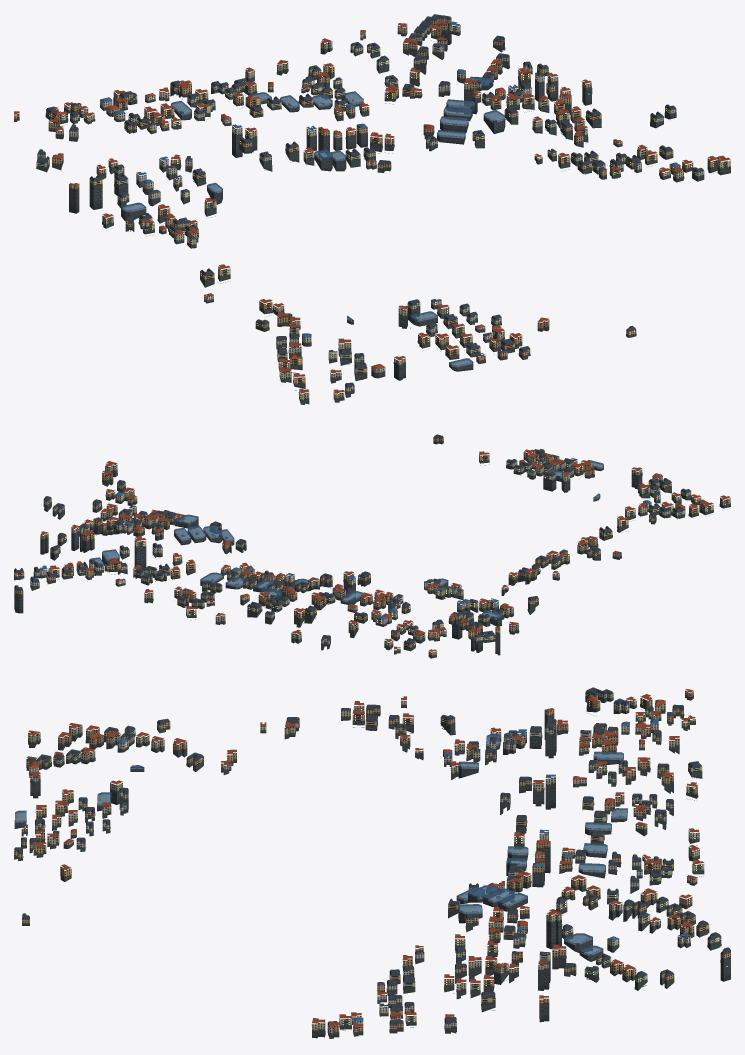
Rendered from osm_buildings_T_W01_S02_Q1.glb.
3 views of the same model, one above another, from view 1: azimuth 30°, elevation 25°; view 2: azimuth 150°, elevation 25°; view 3: azimuth 270°, elevation 25° (orthographic). The views are drawn at different scales.
Visible parts, largest first — view 1: OSM_T_W01_S02_Q1_foundation, OSM_T_W01_S02_Q1_wall_french_ochre, OSM_T_W01_S02_Q1_wall_cream_stucco, OSM_T_W01_S02_Q1_roof_terracotta, OSM_T_W01_S02_Q1_roof_mansard_slate, OSM_T_W01_S02_Q1_greenhouse_blend, OSM_T_W01_S02_Q1_roof_mansard_deck, OSM_T_W01_S02_Q1_roof_mint_metal, OSM_T_W01_S02_Q1_wall_warm_white, OSM_T_W01_S02_Q1_trim_cornice, OSM_T_W01_S02_Q1_balcony_railing, OSM_T_W01_S02_Q1_wall_pastel_sand (+1 smaller); view 2: OSM_T_W01_S02_Q1_foundation, OSM_T_W01_S02_Q1_wall_french_ochre, OSM_T_W01_S02_Q1_wall_cream_stucco, OSM_T_W01_S02_Q1_roof_terracotta, OSM_T_W01_S02_Q1_roof_mansard_slate, OSM_T_W01_S02_Q1_greenhouse_blend, OSM_T_W01_S02_Q1_roof_mansard_deck, OSM_T_W01_S02_Q1_roof_mint_metal, OSM_T_W01_S02_Q1_wall_warm_white, OSM_T_W01_S02_Q1_balcony_railing, OSM_T_W01_S02_Q1_wall_pastel_sand, OSM_T_W01_S02_Q1_trim_cornice (+2 smaller); view 3: OSM_T_W01_S02_Q1_foundation, OSM_T_W01_S02_Q1_wall_french_ochre, OSM_T_W01_S02_Q1_wall_cream_stucco, OSM_T_W01_S02_Q1_roof_terracotta, OSM_T_W01_S02_Q1_roof_mansard_slate, OSM_T_W01_S02_Q1_greenhouse_blend, OSM_T_W01_S02_Q1_roof_mansard_deck, OSM_T_W01_S02_Q1_roof_mint_metal, OSM_T_W01_S02_Q1_trim_cornice, OSM_T_W01_S02_Q1_wall_warm_white, OSM_T_W01_S02_Q1_balcony_railing, OSM_T_W01_S02_Q1_wall_pastel_sand.
Part boxes in pixels (x1,y1,x2,y2): OSM_T_W01_S02_Q1_foundation: (14, 22, 730, 404); OSM_T_W01_S02_Q1_wall_french_ochre: (14, 18, 717, 398); OSM_T_W01_S02_Q1_wall_cream_stucco: (36, 18, 730, 400); OSM_T_W01_S02_Q1_roof_terracotta: (14, 19, 730, 393); OSM_T_W01_S02_Q1_roof_mansard_slate: (36, 16, 703, 387); OSM_T_W01_S02_Q1_greenhouse_blend: (121, 76, 505, 367); OSM_T_W01_S02_Q1_roof_mansard_deck: (38, 14, 702, 385); OSM_T_W01_S02_Q1_roof_mint_metal: (36, 25, 730, 402); OSM_T_W01_S02_Q1_wall_warm_white: (69, 45, 680, 372); OSM_T_W01_S02_Q1_trim_cornice: (17, 18, 730, 398); OSM_T_W01_S02_Q1_balcony_railing: (46, 25, 728, 399); OSM_T_W01_S02_Q1_wall_pastel_sand: (100, 25, 558, 330); OSM_T_W01_S02_Q1_foundation: (14, 441, 730, 658); OSM_T_W01_S02_Q1_wall_french_ochre: (14, 438, 708, 655); OSM_T_W01_S02_Q1_wall_cream_stucco: (30, 455, 730, 651); OSM_T_W01_S02_Q1_roof_terracotta: (40, 449, 730, 651); OSM_T_W01_S02_Q1_roof_mansard_slate: (14, 435, 690, 644); OSM_T_W01_S02_Q1_greenhouse_blend: (89, 460, 603, 619); OSM_T_W01_S02_Q1_roof_mansard_deck: (15, 434, 689, 641); OSM_T_W01_S02_Q1_roof_mint_metal: (16, 441, 730, 649); OSM_T_W01_S02_Q1_wall_warm_white: (80, 460, 662, 629); OSM_T_W01_S02_Q1_balcony_railing: (17, 453, 729, 650); OSM_T_W01_S02_Q1_wall_pastel_sand: (40, 462, 536, 624); OSM_T_W01_S02_Q1_trim_cornice: (16, 437, 722, 649); OSM_T_W01_S02_Q1_foundation: (14, 695, 730, 1038); OSM_T_W01_S02_Q1_wall_french_ochre: (14, 691, 730, 1033); OSM_T_W01_S02_Q1_wall_cream_stucco: (26, 692, 721, 1030); OSM_T_W01_S02_Q1_roof_terracotta: (27, 689, 703, 1027); OSM_T_W01_S02_Q1_roof_mansard_slate: (14, 689, 730, 1026); OSM_T_W01_S02_Q1_greenhouse_blend: (14, 734, 627, 955); OSM_T_W01_S02_Q1_roof_mansard_deck: (15, 687, 729, 1022); OSM_T_W01_S02_Q1_roof_mint_metal: (14, 697, 730, 1034); OSM_T_W01_S02_Q1_trim_cornice: (14, 692, 727, 1030); OSM_T_W01_S02_Q1_wall_warm_white: (29, 700, 650, 1027); OSM_T_W01_S02_Q1_balcony_railing: (32, 700, 729, 1029); OSM_T_W01_S02_Q1_wall_pastel_sand: (63, 723, 697, 969).
Bounding box in the file's own units: 978 × 131 × 994.
16 materials, 16 textured.
